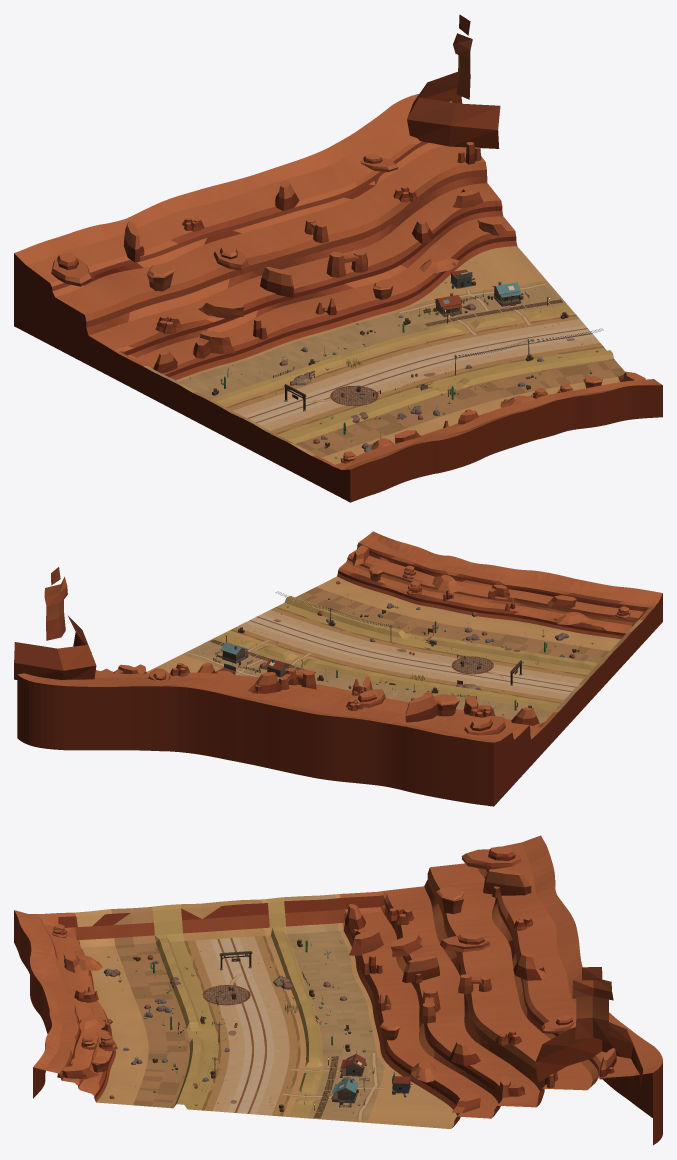
The model's file is chunk_section1_a.glb.
3 views of the same model, one above another, from view 1: azimuth 30°, elevation 25°; view 2: azimuth 150°, elevation 25°; view 3: azimuth 270°, elevation 25° (orthographic). The views are drawn at different scales.
Visible parts, largest first — view 1: chunk_section1_a; view 2: chunk_section1_a; view 3: chunk_section1_a.
Part boxes in pixels (x1=…): chunk_section1_a: x1=14, y1=14, x2=662, y2=502; chunk_section1_a: x1=14, y1=531, x2=662, y2=806; chunk_section1_a: x1=14, y1=835, x2=662, y2=1145.
Bounding box in the file's own units: 545 × 180 × 615.
